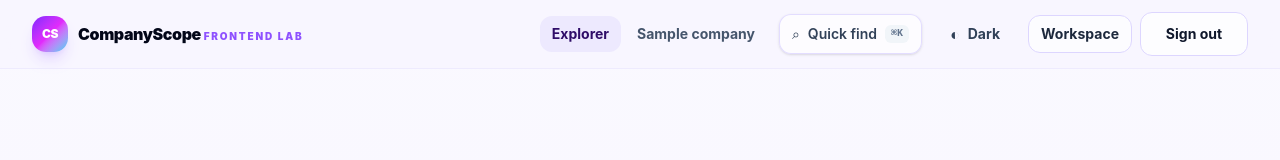
it: AppHeader logout navigation › does not navigate when logout cannot be confirmed
The width and height of the screenshot is (1280, 160).
Click the button "Sign out" at (1194, 34), box [1140,12,1248,56]
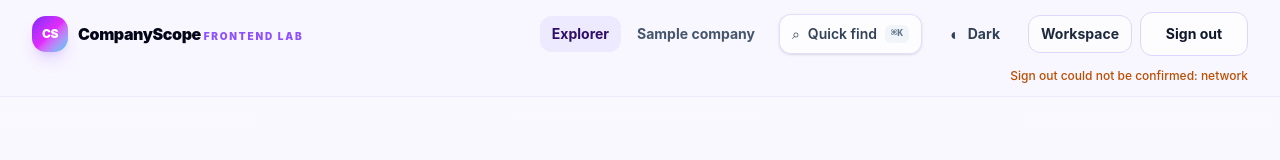
Expected: the message reads "Sign out could not be confirmed: network", [1010,68,1248,83]
